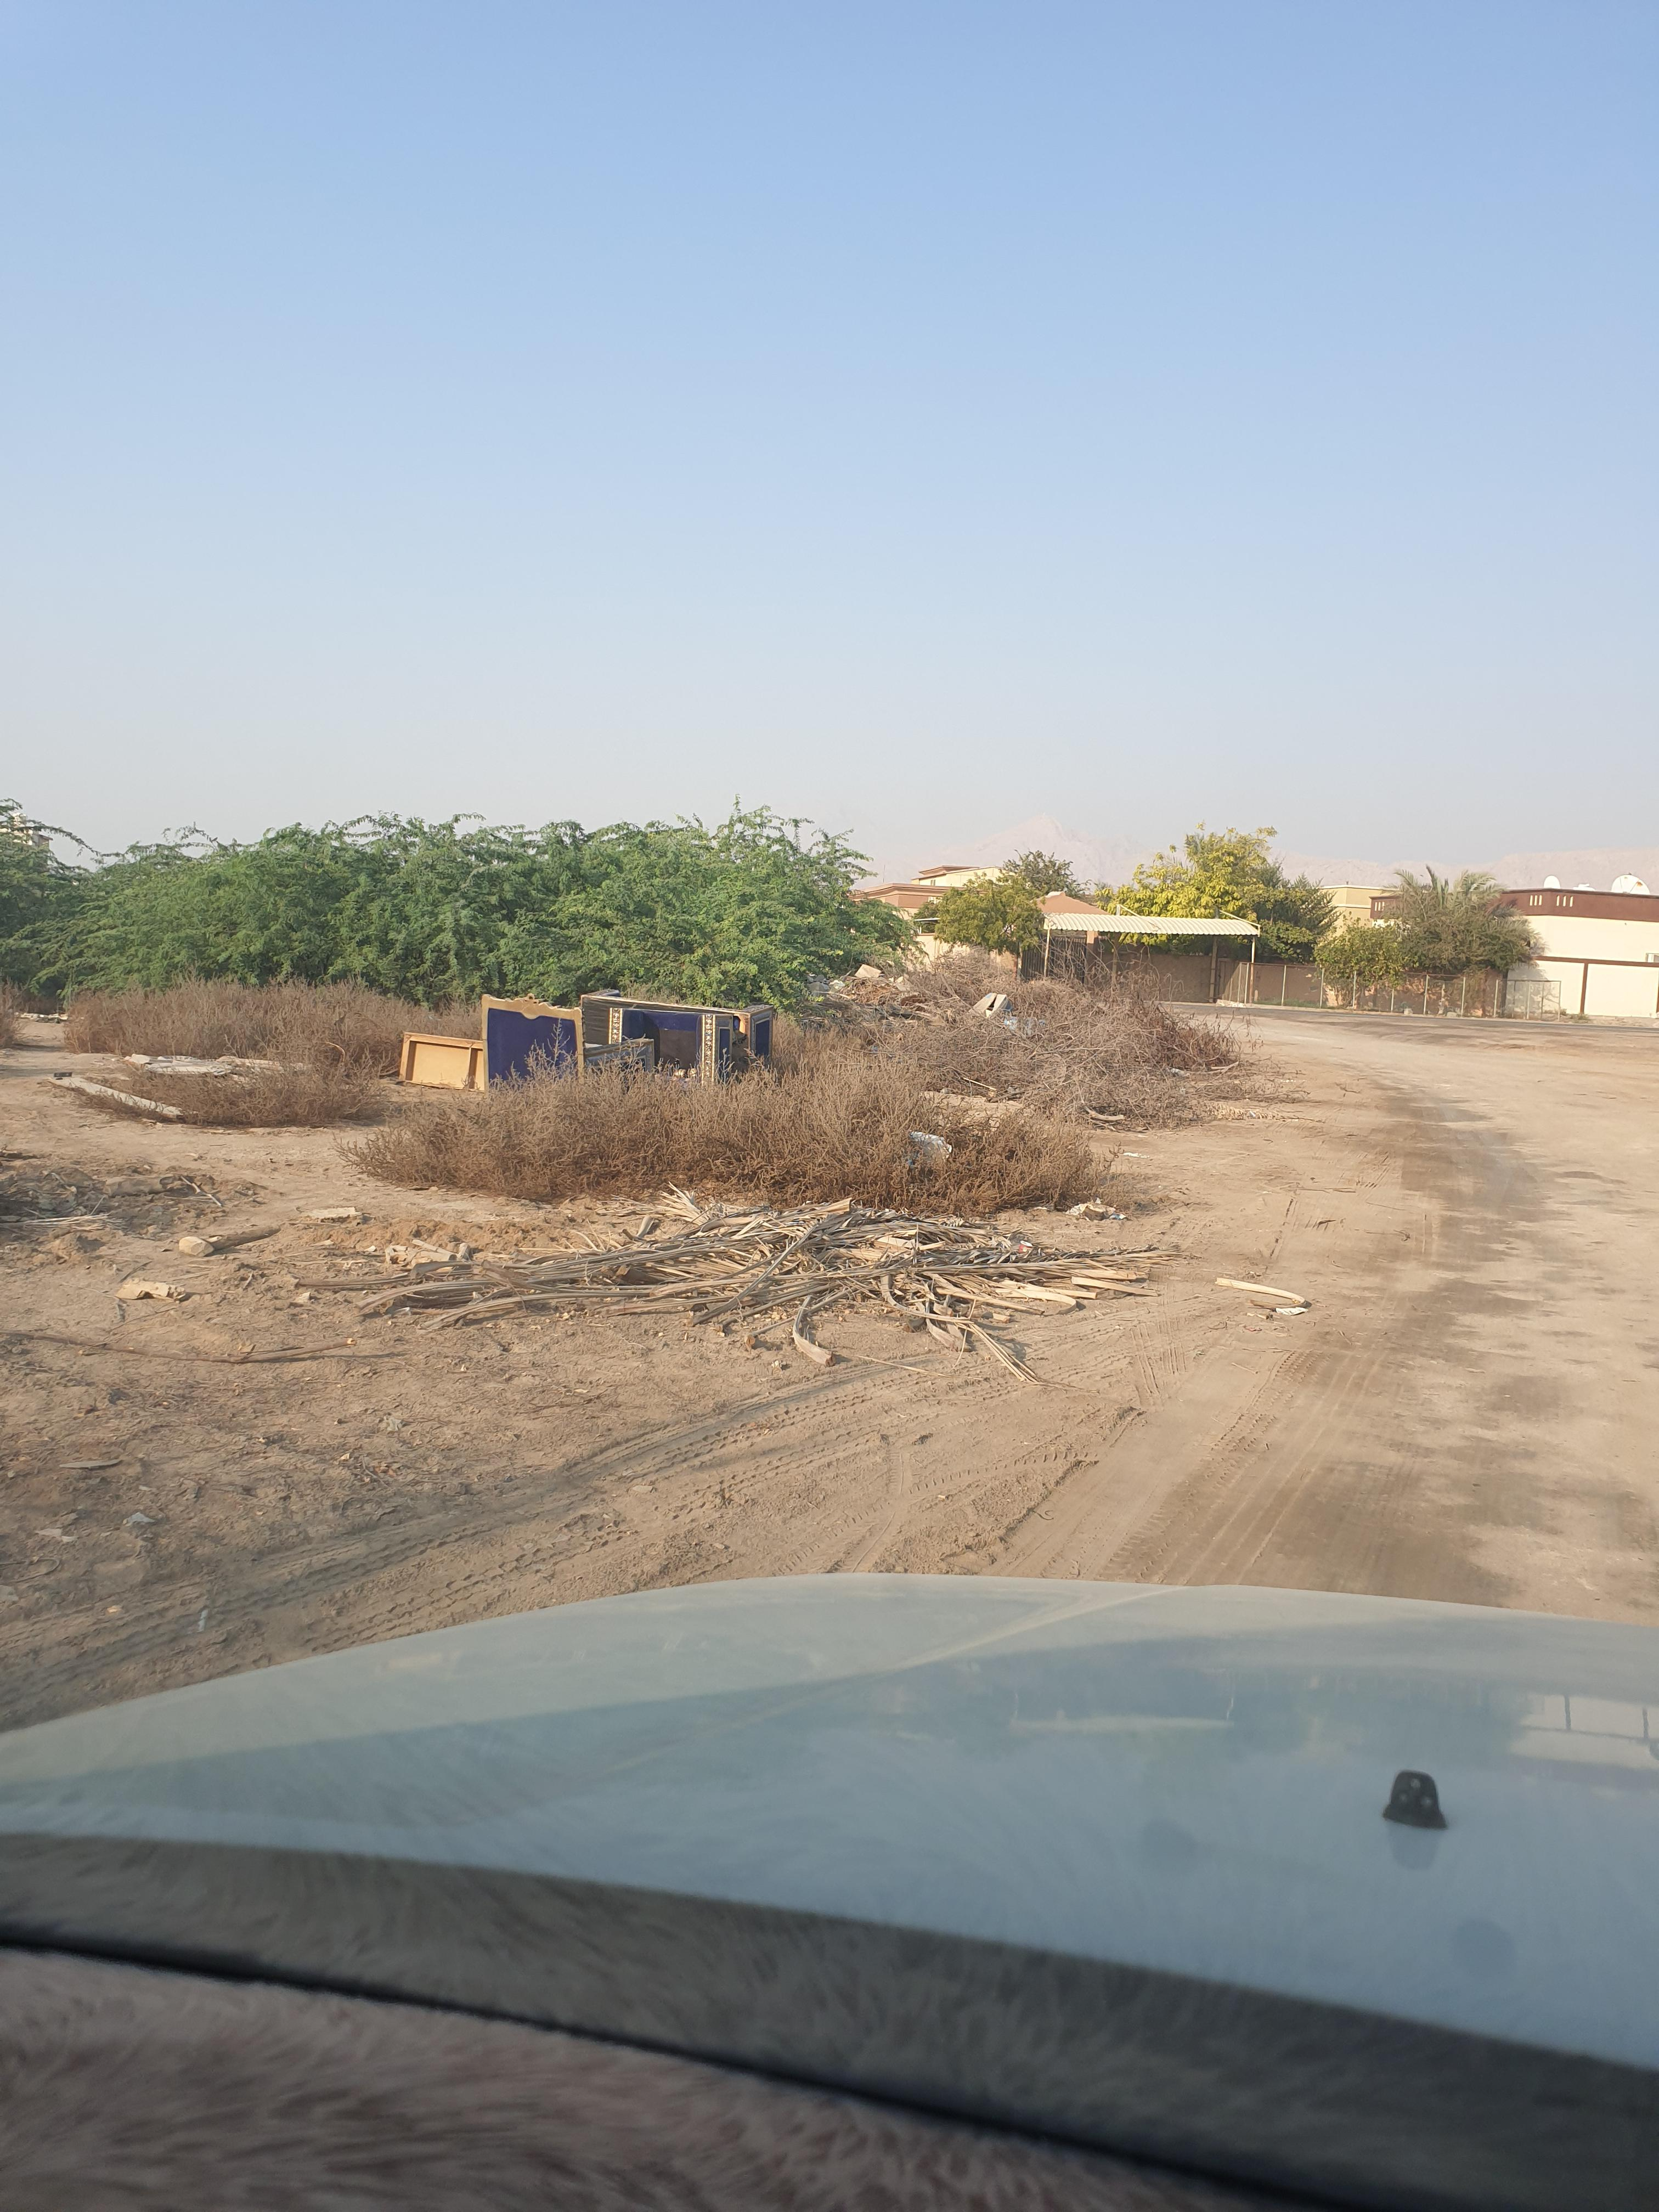fallen_trees: (415, 1197, 1415, 1406)
uncollected_waste: (422, 988, 830, 1108)
